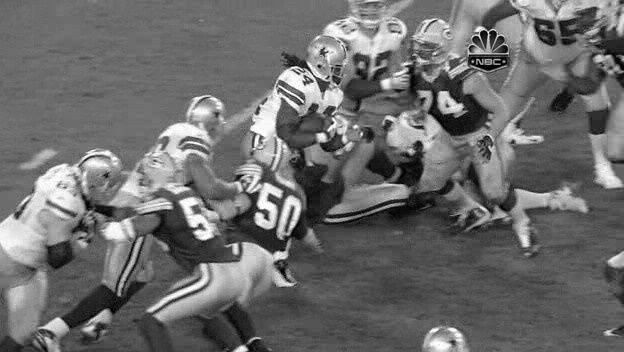person: (310, 38, 345, 82), (309, 38, 344, 82), (311, 38, 346, 82), (310, 37, 345, 81), (310, 39, 345, 83)
target_negative: (44, 19, 578, 322), (416, 265, 523, 341), (37, 295, 162, 339), (330, 322, 579, 333), (33, 323, 126, 337), (390, 228, 393, 296)
